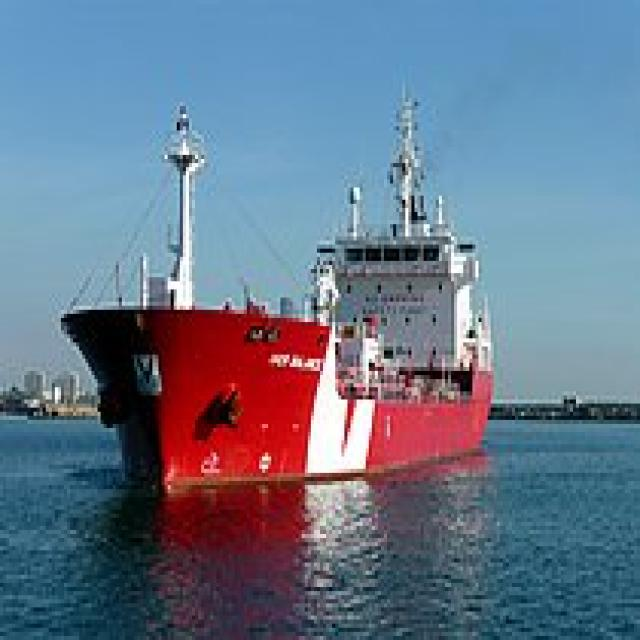Tanker: (55, 82, 488, 485)
